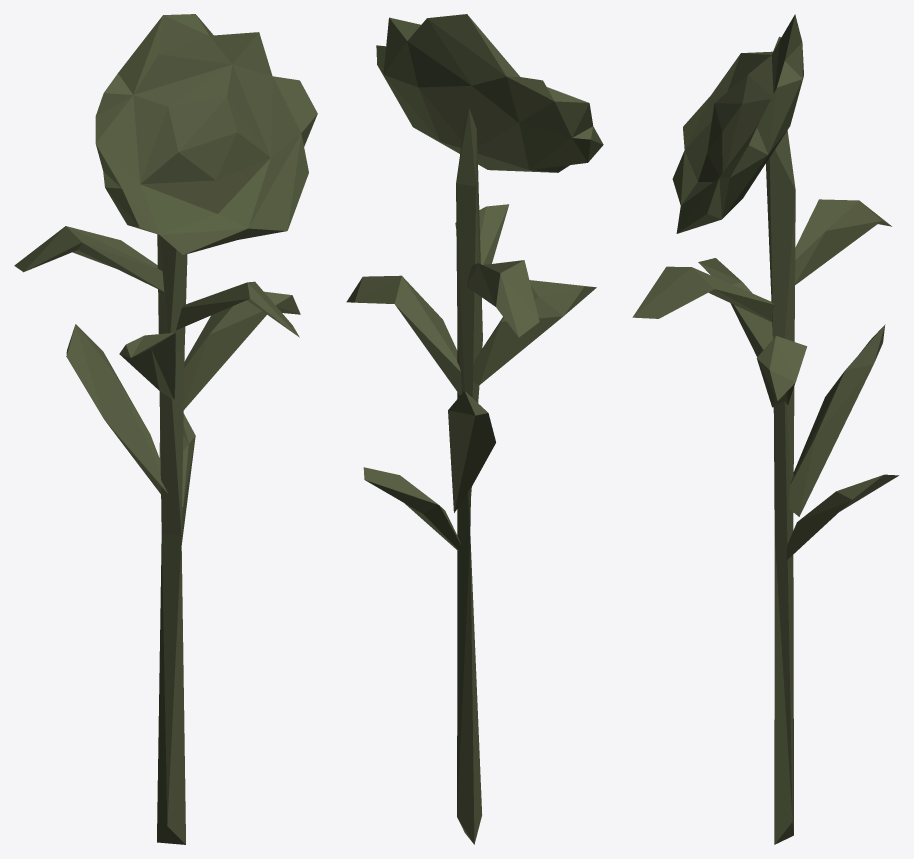
Rendered from kingdom_SM_Env_Sunflower_02.gltf.
The picture shows the model from 3 angles, left to right: view 1: azimuth 30°, elevation 25°; view 2: azimuth 150°, elevation 25°; view 3: azimuth 270°, elevation 25°; orthographic projection.
Visible parts, largest first — view 1: SM_Env_Sunflower_02; view 2: SM_Env_Sunflower_02; view 3: SM_Env_Sunflower_02.
Part boxes in pixels (x1,y1,x2,y2): SM_Env_Sunflower_02: (14, 14, 317, 844); SM_Env_Sunflower_02: (346, 14, 603, 844); SM_Env_Sunflower_02: (632, 14, 898, 844).
Bounding box in the file's own units: 0.617 × 2.07 × 0.6085.
Materials: 1 (1 with a texture image).
